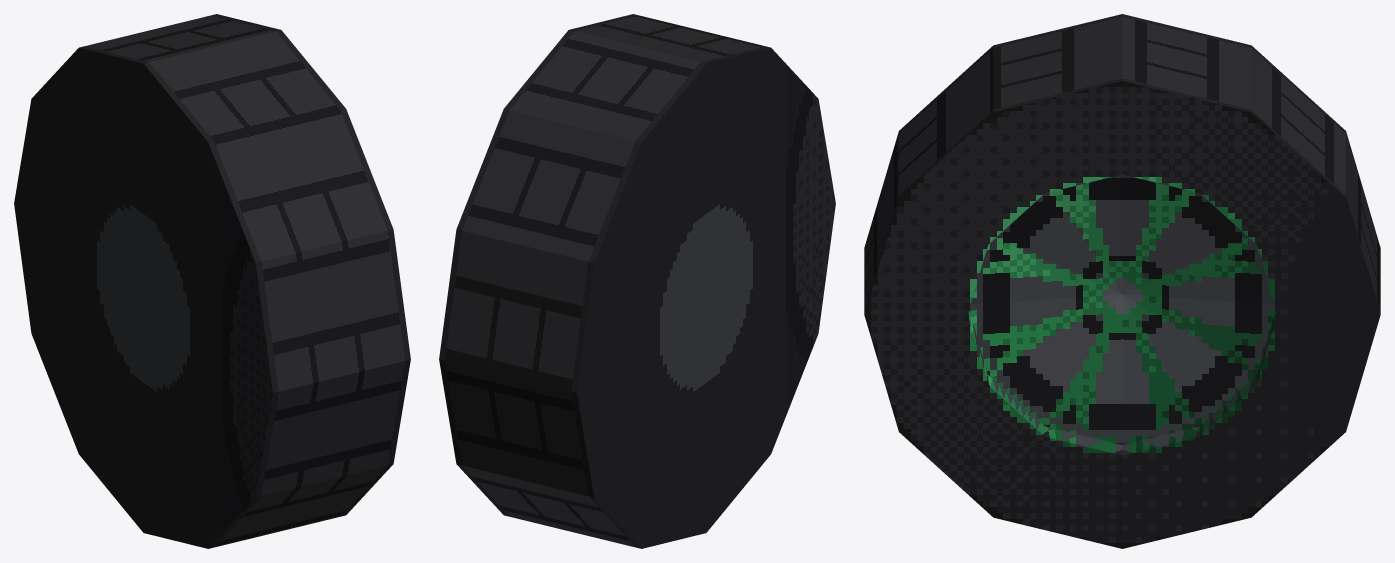
File: wheel_eight.glb
3 renders of one model, left to right at view 1: azimuth 30°, elevation 25°; view 2: azimuth 150°, elevation 25°; view 3: azimuth 270°, elevation 25°, orthographic.
Visible parts, largest first — view 1: wheel_eight; view 2: wheel_eight; view 3: wheel_eight.
Boxes of the visible parts, x1=… form: wheel_eight: x1=14, y1=14, x2=410, y2=548; wheel_eight: x1=439, y1=14, x2=835, y2=548; wheel_eight: x1=864, y1=14, x2=1380, y2=548.
Bounding box in the file's own units: 0.195 × 0.6345 × 0.6345.
1 material, 1 textured.
